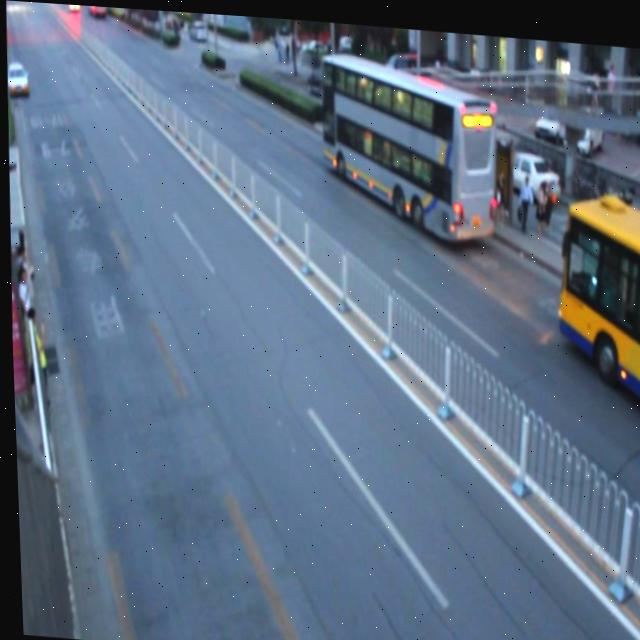van: (314, 48, 497, 243), (547, 187, 640, 412)
